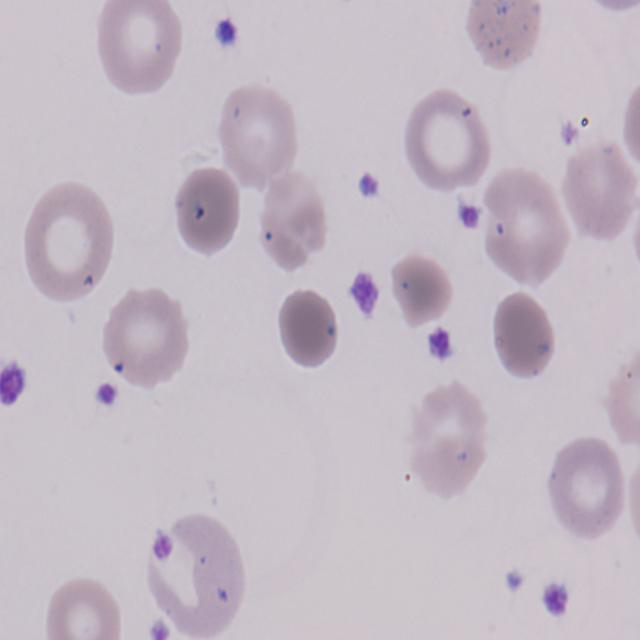Platelets: (0, 354, 25, 408)
RBC: (140, 504, 242, 639), (18, 178, 118, 308), (474, 168, 570, 294), (404, 381, 493, 504), (400, 85, 494, 198), (102, 282, 191, 394), (91, 1, 187, 101), (216, 81, 302, 192), (546, 434, 626, 547), (562, 136, 638, 244), (256, 170, 332, 276), (459, 0, 543, 70), (41, 575, 125, 640), (604, 338, 640, 455), (618, 49, 640, 186)
Spherocyte: (485, 288, 556, 382), (172, 165, 244, 255), (272, 288, 341, 372)
